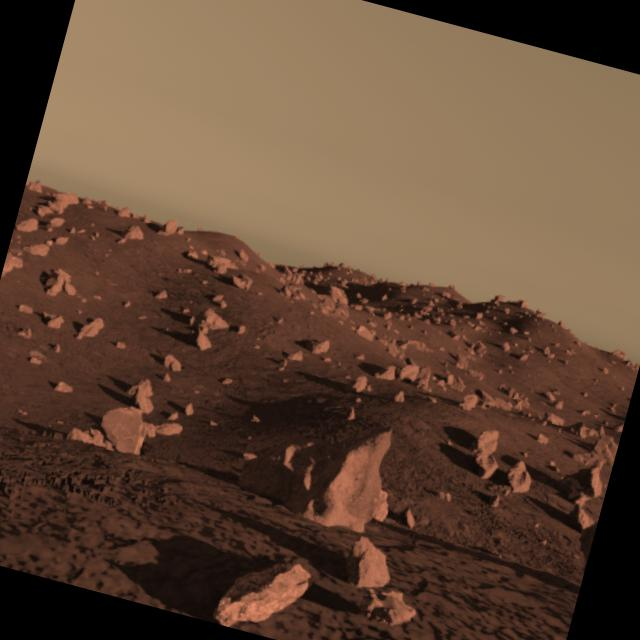rock: (302, 412, 402, 538), (208, 549, 313, 640), (329, 520, 403, 594), (92, 396, 158, 464)
